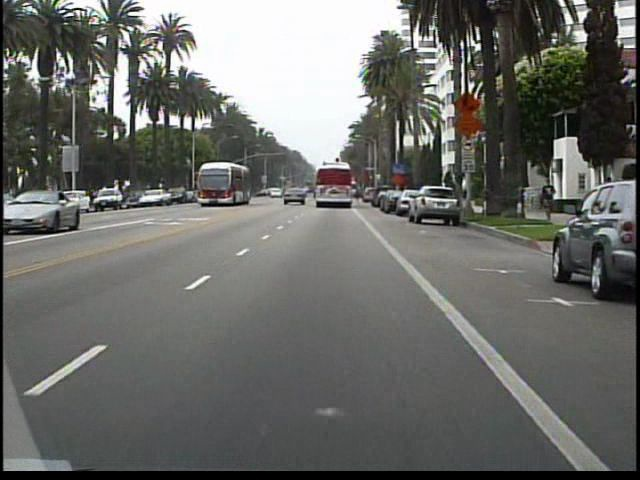person: (600, 170, 628, 220), (537, 173, 559, 225)
